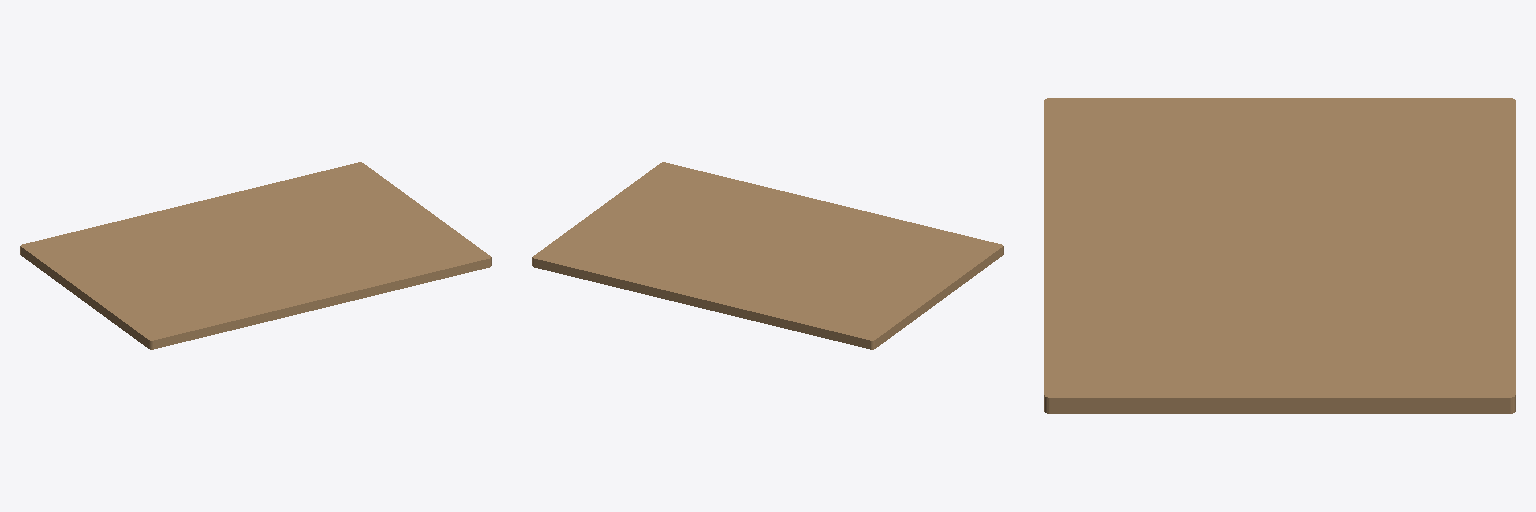
The robot description file, URDF, robot "robotic_arm":
<?xml version="1.0" ?>
<!-- =================================================================================== -->
<!-- |    This document was autogenerated by xacro from robotic_arm.xacro              | -->
<!-- |    EDITING THIS FILE BY HAND IS NOT RECOMMENDED                                 | -->
<!-- =================================================================================== -->
<robot name="robotic_arm">
  <material name="silver_default">
    <color rgba="0.700 0.700 0.700 1.000"/>
  </material>
  <material name="oak">
    <color rgba="0.7098 0.5882 0.4431 1.000"/>
  </material>
  <material name="pa_12_nylon_pa_603cf_with_eos_p_3d_printers">
    <color rgba="0.24705882352941178 0.24705882352941178 0.24705882352941178 1.0"/>
  </material>
  <material name="paint_enamel_glossy_blue">
    <color rgba="0.18823529411764706 0.23137254901960785 0.5882352941176471 1.0"/>
  </material>
  <material name="opaque160160160">
    <color rgba="0.6274509803921569 0.6274509803921569 0.6274509803921569 1.0"/>
  </material>
  <transmission name="base_waist_joint_tran">
    <type>transmission_interface/SimpleTransmission</type>
    <joint name="base_waist_joint">
      <hardwareInterface>hardware_interface/EffortJointInterface</hardwareInterface>
    </joint>
    <actuator name="base_waist_joint_actr">
      <hardwareInterface>hardware_interface/EffortJointInterface</hardwareInterface>
      <mechanicalReduction>1</mechanicalReduction>
    </actuator>
  </transmission>
  <transmission name="waist_link1_joint_tran">
    <type>transmission_interface/SimpleTransmission</type>
    <joint name="waist_link1_joint">
      <hardwareInterface>hardware_interface/EffortJointInterface</hardwareInterface>
    </joint>
    <actuator name="waist_link1_joint_actr">
      <hardwareInterface>hardware_interface/EffortJointInterface</hardwareInterface>
      <mechanicalReduction>1</mechanicalReduction>
    </actuator>
  </transmission>
  <transmission name="link1_link2_joint_tran">
    <type>transmission_interface/SimpleTransmission</type>
    <joint name="link1_link2_joint">
      <hardwareInterface>hardware_interface/EffortJointInterface</hardwareInterface>
    </joint>
    <actuator name="link1_link2_joint_actr">
      <hardwareInterface>hardware_interface/EffortJointInterface</hardwareInterface>
      <mechanicalReduction>1</mechanicalReduction>
    </actuator>
  </transmission>
  <transmission name="link2_gripper_base_joint_tran">
    <type>transmission_interface/SimpleTransmission</type>
    <joint name="link2_gripper_base_joint">
      <hardwareInterface>hardware_interface/EffortJointInterface</hardwareInterface>
    </joint>
    <actuator name="link2_gripper_base_joint_actr">
      <hardwareInterface>hardware_interface/EffortJointInterface</hardwareInterface>
      <mechanicalReduction>1</mechanicalReduction>
    </actuator>
  </transmission>
  <transmission name="left_gripper_joint_tran">
    <type>transmission_interface/SimpleTransmission</type>
    <joint name="left_gripper_joint">
      <hardwareInterface>hardware_interface/EffortJointInterface</hardwareInterface>
    </joint>
    <actuator name="left_gripper_joint_actr">
      <hardwareInterface>hardware_interface/EffortJointInterface</hardwareInterface>
      <mechanicalReduction>1</mechanicalReduction>
    </actuator>
  </transmission>
  <transmission name="right_gripper_joint_tran">
    <type>transmission_interface/SimpleTransmission</type>
    <joint name="right_gripper_joint">
      <hardwareInterface>hardware_interface/EffortJointInterface</hardwareInterface>
    </joint>
    <actuator name="right_gripper_joint_actr">
      <hardwareInterface>hardware_interface/EffortJointInterface</hardwareInterface>
      <mechanicalReduction>1</mechanicalReduction>
    </actuator>
  </transmission>
  <gazebo>
    <plugin filename="libgazebo_ros2_control.so" name="gazebo_ros2_control">
      <robot_param> robot_description</robot_param>
      <robot_param_node> robot_state_publisher</robot_param_node>
      <parameters>[local-path]/ai_based_sorting_robot_arm/install/robotic_arm_controllers/share/robotic_arm_controllers/config/robot_arm_controllers.yaml</parameters>
    </plugin>
  </gazebo>
  <gazebo reference="base_link">
    <material>Gazebo/Oak</material>
    <mu1>0.2</mu1>
    <mu2>0.2</mu2>
    <self_collide>true</self_collide>
    <gravity>true</gravity>
  </gazebo>
  <gazebo reference="base">
    <material>Gazebo/FlatBlack</material>
    <mu1>0.2</mu1>
    <mu2>0.2</mu2>
    <self_collide>true</self_collide>
  </gazebo>
  <gazebo reference="waist">
    <material>Gazebo/FlatBlack</material>
    <mu1>0.2</mu1>
    <mu2>0.2</mu2>
    <self_collide>true</self_collide>
  </gazebo>
  <gazebo reference="link_1">
    <material>Gazebo/FlatBlack</material>
    <mu1>0.2</mu1>
    <mu2>0.2</mu2>
    <self_collide>true</self_collide>
  </gazebo>
  <gazebo reference="link_2">
    <material>Gazebo/FlatBlack</material>
    <mu1>0.2</mu1>
    <mu2>0.2</mu2>
    <self_collide>true</self_collide>
  </gazebo>
  <gazebo reference="gripper_base">
    <material>Gazebo/FlatBlack</material>
    <mu1>0.2</mu1>
    <mu2>0.2</mu2>
    <self_collide>true</self_collide>
  </gazebo>
  <gazebo reference="gripper_finger_1">
    <material>GazeboGrey</material>
    <mu1>0.2</mu1>
    <mu2>0.2</mu2>
    <self_collide>true</self_collide>
  </gazebo>
  <gazebo reference="gripper_finger_2">
    <material>GazeboGrey</material>
    <mu1>0.2</mu1>
    <mu2>0.2</mu2>
    <self_collide>true</self_collide>
  </gazebo>
  <ros2_control name="RoboticArmSystem" type="system">
    <hardware>
      <plugin>gazebo_ros2_control/GazeboSystem</plugin>
    </hardware>
    <!-- Interfaces -->
    <joint name="base_waist_joint">
      <command_interface name="position">
        <param name="min">-1.570795</param>
        <param name="max">1.570795</param>
      </command_interface>
      <state_interface name="position"/>
    </joint>
    <joint name="waist_link1_joint">
      <command_interface name="position">
        <param name="min">-1.570795</param>
        <param name="max">1.570795</param>
      </command_interface>
      <state_interface name="position"/>
    </joint>
    <joint name="link1_link2_joint">
      <command_interface name="position">
        <param name="min">0.0</param>
        <param name="max">3.14159</param>
      </command_interface>
      <state_interface name="position"/>
    </joint>
    <joint name="link2_gripper_base_joint">
      <command_interface name="position">
        <param name="min">-1.570795</param>
        <param name="max">1.570795</param>
      </command_interface>
      <state_interface name="position"/>
    </joint>
    <joint name="right_gripper_joint">
      <command_interface name="position">
        <param name="min">0.0</param>
        <param name="max">0.7854</param>
      </command_interface>
      <state_interface name="position"/>
    </joint>
    <joint name="left_gripper_joint">
      <param name="mimic">right_gripper_joint</param>
      <param name="multiplier">1</param>
      <command_interface name="position">
        <param name="min">-0.7854</param>
        <param name="max">0.0</param>
      </command_interface>
      <state_interface name="position"/>
    </joint>
  </ros2_control>
  <!-- Links -->
  <link name="world"/>
  <link name="base_link">
    <inertial>
      <origin rpy="0 0 0" xyz="4.1292719567255465e-17 -0.1275 0.0075"/>
      <mass value="2.5408670074548567"/>
      <inertia ixx="0.033061" ixy="-0.0" ixz="0.0" iyy="0.074955" iyz="0.0" izz="0.107921"/>
    </inertial>
    <visual>
      <origin rpy="0 0 0" xyz="0 0 0"/>
      <geometry>
        <mesh filename="package://robotic_arm_description/meshes/base_link.stl" scale="0.001 0.001 0.001"/>
      </geometry>
      <material name="oak"/>
    </visual>
    <collision>
      <origin rpy="0 0 0" xyz="0 0 0"/>
      <geometry>
        <mesh filename="package://robotic_arm_description/meshes/base_link.stl" scale="0.001 0.001 0.001"/>
      </geometry>
    </collision>
  </link>
  <link name="base">
    <inertial>
      <origin rpy="0 0 0" xyz="3.3070895591155684e-07 -0.06999939486232219 0.051365620594267386"/>
      <mass value="0.5102582987586253"/>
      <inertia ixx="0.001541" ixy="0.0" ixz="0.0" iyy="0.00162" iyz="0.0" izz="0.002267"/>
    </inertial>
    <visual>
      <origin rpy="0 0 0" xyz="-0.0 -0.07 -0.015"/>
      <geometry>
        <mesh filename="package://robotic_arm_description/meshes/base.stl" scale="0.001 0.001 0.001"/>
      </geometry>
      <material name="pa_12_nylon_pa_603cf_with_eos_p_3d_printers"/>
    </visual>
    <collision>
      <origin rpy="0 0 0" xyz="-0.0 -0.07 -0.015"/>
      <geometry>
        <mesh filename="package://robotic_arm_description/meshes/base.stl" scale="0.001 0.001 0.001"/>
      </geometry>
    </collision>
  </link>
  <link name="waist">
    <inertial>
      <origin rpy="0 0 0" xyz="-0.013899791072812253 -0.003284120079222943 0.02372142968591144"/>
      <mass value="0.11734363935702768"/>
      <inertia ixx="8.6e-05" ixy="-3e-06" ixz="1.4e-05" iyy="7.9e-05" iyz="1.1e-05" izz="8.5e-05"/>
    </inertial>
    <visual>
      <origin rpy="0 0 0" xyz="0.0 0.0 -0.101"/>
      <geometry>
        <mesh filename="package://robotic_arm_description/meshes/waist.stl" scale="0.001 0.001 0.001"/>
      </geometry>
      <material name="pa_12_nylon_pa_603cf_with_eos_p_3d_printers"/>
    </visual>
    <collision>
      <origin rpy="0 0 0" xyz="0.0 0.0 -0.101"/>
      <geometry>
        <mesh filename="package://robotic_arm_description/meshes/waist.stl" scale="0.001 0.001 0.001"/>
      </geometry>
    </collision>
  </link>
  <link name="link_1">
    <inertial>
      <origin rpy="0 0 0" xyz="0.007817729878361625 -4.0523557253042963e-07 0.06000021649587692"/>
      <mass value="0.07112302510728019"/>
      <inertia ixx="0.000121" ixy="0.0" ixz="0.0" iyy="0.000116" iyz="-0.0" izz="1e-05"/>
    </inertial>
    <visual>
      <origin rpy="0 0 0" xyz="0.001 0.014069 -0.141262"/>
      <geometry>
        <mesh filename="package://robotic_arm_description/meshes/link_1.stl" scale="0.001 0.001 0.001"/>
      </geometry>
      <material name="pa_12_nylon_pa_603cf_with_eos_p_3d_printers"/>
    </visual>
    <collision>
      <origin rpy="0 0 0" xyz="0.001 0.014069 -0.141262"/>
      <geometry>
        <mesh filename="package://robotic_arm_description/meshes/link_1.stl" scale="0.001 0.001 0.001"/>
      </geometry>
    </collision>
  </link>
  <link name="link_2">
    <inertial>
      <origin rpy="0 0 0" xyz="-0.01594540180295605 -0.046193837589282 4.672518474457821e-05"/>
      <mass value="0.11456681455688399"/>
      <inertia ixx="0.000224" ixy="2.7e-05" ixz="-0.0" iyy="2.7e-05" iyz="0.0" izz="0.00023"/>
    </inertial>
    <visual>
      <origin rpy="0 0 0" xyz="0.001 0.014069 -0.261262"/>
      <geometry>
        <mesh filename="package://robotic_arm_description/meshes/link_2.stl" scale="0.001 0.001 0.001"/>
      </geometry>
      <material name="pa_12_nylon_pa_603cf_with_eos_p_3d_printers"/>
    </visual>
    <collision>
      <origin rpy="0 0 0" xyz="0.001 0.014069 -0.261262"/>
      <geometry>
        <mesh filename="package://robotic_arm_description/meshes/link_2.stl" scale="0.001 0.001 0.001"/>
      </geometry>
    </collision>
  </link>
  <link name="gripper_base">
    <inertial>
      <origin rpy="0 0 0" xyz="0.016989765812988437 -0.03097536759348493 0.0043010847265131935"/>
      <mass value="0.02850874527831614"/>
      <inertia ixx="1e-05" ixy="3e-06" ixz="1e-06" iyy="7e-06" iyz="1e-06" izz="1.4e-05"/>
    </inertial>
    <visual>
      <origin rpy="0 0 0" xyz="-0.00285 0.131419 -0.261562"/>
      <geometry>
        <mesh filename="package://robotic_arm_description/meshes/gripper_base.stl" scale="0.001 0.001 0.001"/>
      </geometry>
      <material name="pa_12_nylon_pa_603cf_with_eos_p_3d_printers"/>
    </visual>
    <collision>
      <origin rpy="0 0 0" xyz="-0.00285 0.131419 -0.261562"/>
      <geometry>
        <mesh filename="package://robotic_arm_description/meshes/gripper_base.stl" scale="0.001 0.001 0.001"/>
      </geometry>
    </collision>
  </link>
  <link name="gripper_finger_1">
    <inertial>
      <origin rpy="0 0 0" xyz="0.0025925452739243675 -0.04003700818287059 0.002000392615642277"/>
      <mass value="0.00844478254120791"/>
      <inertia ixx="7e-06" ixy="1e-06" ixz="0.0" iyy="0.0" iyz="0.0" izz="8e-06"/>
    </inertial>
    <visual>
      <origin rpy="0 0 0" xyz="-0.02875 0.169419 -0.276912"/>
      <geometry>
        <mesh filename="package://robotic_arm_description/meshes/gripper_finger_1.stl" scale="0.001 0.001 0.001"/>
      </geometry>
      <material name="pa_12_nylon_pa_603cf_with_eos_p_3d_printers"/>
    </visual>
    <collision>
      <origin rpy="0 0 0" xyz="-0.02875 0.169419 -0.276912"/>
      <geometry>
        <mesh filename="package://robotic_arm_description/meshes/gripper_finger_1.stl" scale="0.001 0.001 0.001"/>
      </geometry>
    </collision>
  </link>
  <link name="gripper_finger_2">
    <inertial>
      <origin rpy="0 0 0" xyz="-0.00259254527392403 -0.04003700818287059 0.002000392615642388"/>
      <mass value="0.00844478254120791"/>
      <inertia ixx="7e-06" ixy="-1e-06" ixz="-0.0" iyy="0.0" iyz="0.0" izz="8e-06"/>
    </inertial>
    <visual>
      <origin rpy="0 0 0" xyz="-0.00185 0.169419 -0.275562"/>
      <geometry>
        <mesh filename="package://robotic_arm_description/meshes/gripper_finger_2.stl" scale="0.001 0.001 0.001"/>
      </geometry>
      <material name="pa_12_nylon_pa_603cf_with_eos_p_3d_printers"/>
    </visual>
    <collision>
      <origin rpy="0 0 0" xyz="-0.00185 0.169419 -0.275562"/>
      <geometry>
        <mesh filename="package://robotic_arm_description/meshes/gripper_finger_2.stl" scale="0.001 0.001 0.001"/>
      </geometry>
    </collision>
  </link>
  <joint name="virtual_joint" type="fixed">
    <origin rpy="0.0 0.0 0.0" xyz="0.0 0.0 0.0"/>
    <parent link="world"/>
    <child link="base_link"/>
  </joint>
  <joint name="rigid_1" type="fixed">
    <origin rpy="0 0 0" xyz="0.0 0.07 0.015"/>
    <parent link="base_link"/>
    <child link="base"/>
  </joint>
  <joint name="base_waist_joint" type="revolute">
    <origin rpy="0 0 0" xyz="-0.0 -0.07 0.086"/>
    <parent link="base"/>
    <child link="waist"/>
    <axis xyz="0.0 0.0 1.0"/>
    <limit effort="100" lower="-1.570796" upper="1.570796" velocity="100"/>
  </joint>
  <joint name="waist_link1_joint" type="revolute">
    <origin rpy="0 0 0" xyz="-0.001 -0.014069 0.040262"/>
    <parent link="waist"/>
    <child link="link_1"/>
    <axis xyz="1.0 0.0 -0.0"/>
    <limit effort="100" lower="-1.570796" upper="1.570796" velocity="100"/>
  </joint>
  <joint name="link1_link2_joint" type="revolute">
    <origin rpy="0 0 0" xyz="0.0 0.0 0.12"/>
    <parent link="link_1"/>
    <child link="link_2"/>
    <axis xyz="-1.0 0.0 -0.0"/>
    <limit effort="100" lower="0.0" upper="3.141593" velocity="100"/>
  </joint>
  <joint name="link2_gripper_base_joint" type="revolute">
    <origin rpy="0 0 0" xyz="0.00385 -0.11735 0.0003"/>
    <parent link="link_2"/>
    <child link="gripper_base"/>
    <axis xyz="1.0 0.0 0.0"/>
    <limit effort="100" lower="-1.570796" upper="1.570796" velocity="100"/>
  </joint>
  <joint name="right_gripper_joint" type="revolute">
    <origin rpy="0 0 0" xyz="-0.001 -0.038 0.014"/>
    <parent link="gripper_base"/>
    <child link="gripper_finger_2"/>
    <axis xyz="0.0 0.0 -1.0"/>
    <limit effort="100" lower="0.0" upper="0.785398" velocity="100"/>
  </joint>
  <joint name="left_gripper_joint" type="revolute">
    <origin rpy="0 0 0" xyz="0.0259 -0.038 0.01535"/>
    <parent link="gripper_base"/>
    <child link="gripper_finger_1"/>
    <axis xyz="-0.0 -0.0 1.0"/>
    <mimic joint="right_gripper_joint" multiplier="1.0"/>
    <limit effort="100" lower="0.0" upper="-0.785398" velocity="100"/>
  </joint>
</robot>

--- What the picture shows (computed from the rendered views, not written in the file) ---
Views: 3 orthographic renders of the robot side by side, from view 1: azimuth 30°, elevation 25°; view 2: azimuth 150°, elevation 25°; view 3: azimuth 270°, elevation 25°.
Robot: robotic_arm — 9 links, 8 joints (6 revolute, 2 fixed); root link world; default pose: every joint at zero.
Links seen in each view (by area): view 1: base_link; view 2: base_link; view 3: base_link.
Link boxes in pixels (bbox=[...]): base_link: bbox=[20, 162, 491, 349]; base_link: bbox=[532, 162, 1003, 349]; base_link: bbox=[1044, 98, 1515, 413].
Bounding box of the posed robot: 0.595 × 0.395 × 0.015 m (x, y, z).
Meshes: 8 distinct files referenced, 1 mesh visuals loaded (1 binary STL); not drawn: 7 (file found but could not be loaded).